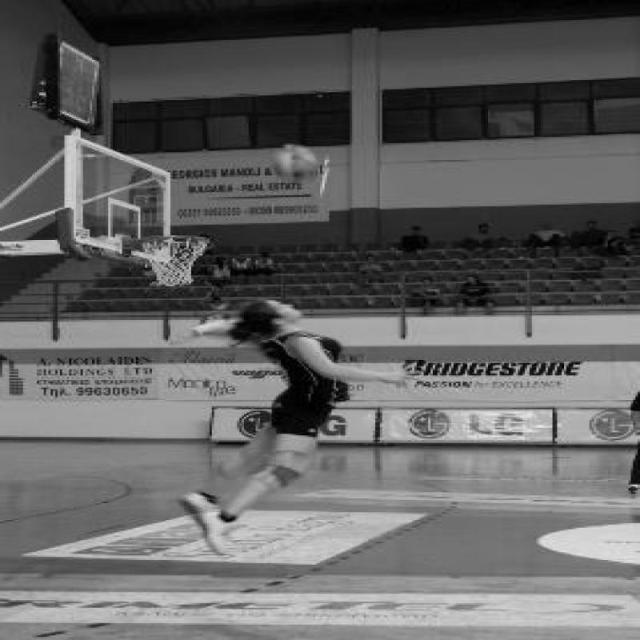volleyball: (272, 143, 318, 180)
